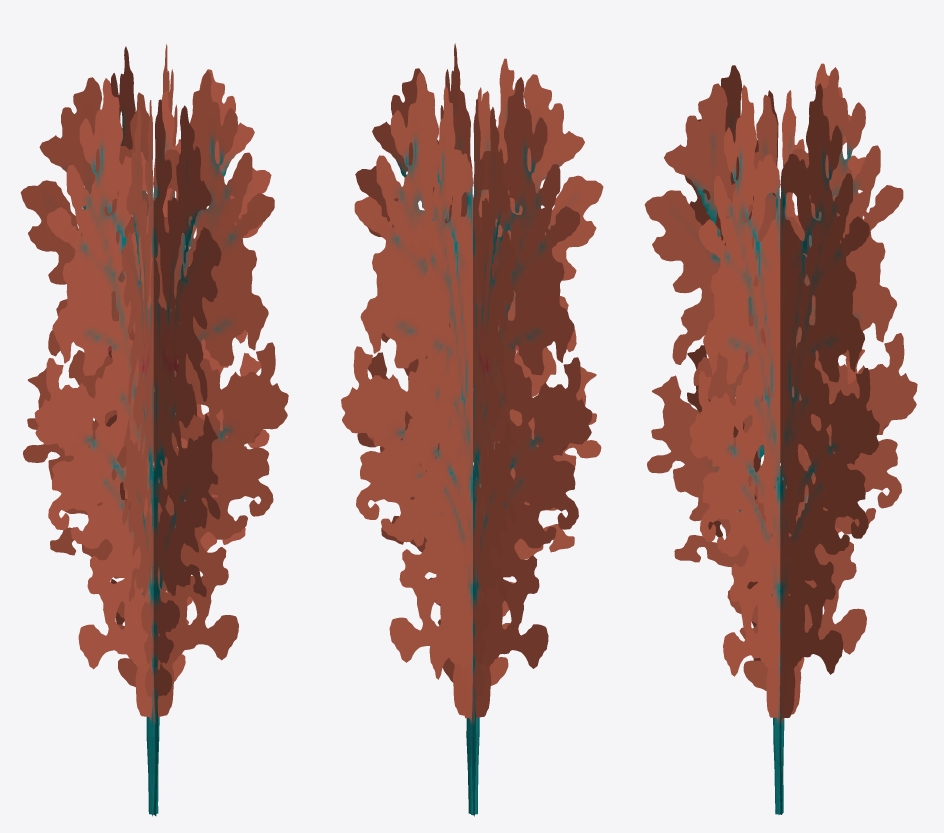
Rendered from FlorLaranja.fbx.
3 views of the same model, side by side, from view 1: azimuth 30°, elevation 25°; view 2: azimuth 150°, elevation 25°; view 3: azimuth 270°, elevation 25° (orthographic).
Visible parts, largest first — view 1: Florlaranja; view 2: Florlaranja; view 3: Florlaranja.
Boxes of the visible parts, x1=… form: Florlaranja: x1=20, y1=44, x2=288, y2=816; Florlaranja: x1=341, y1=43, x2=603, y2=816; Florlaranja: x1=644, y1=63, x2=917, y2=814.
Size of the model in its own units: 0.3516 by 1.01 by 0.3516.
